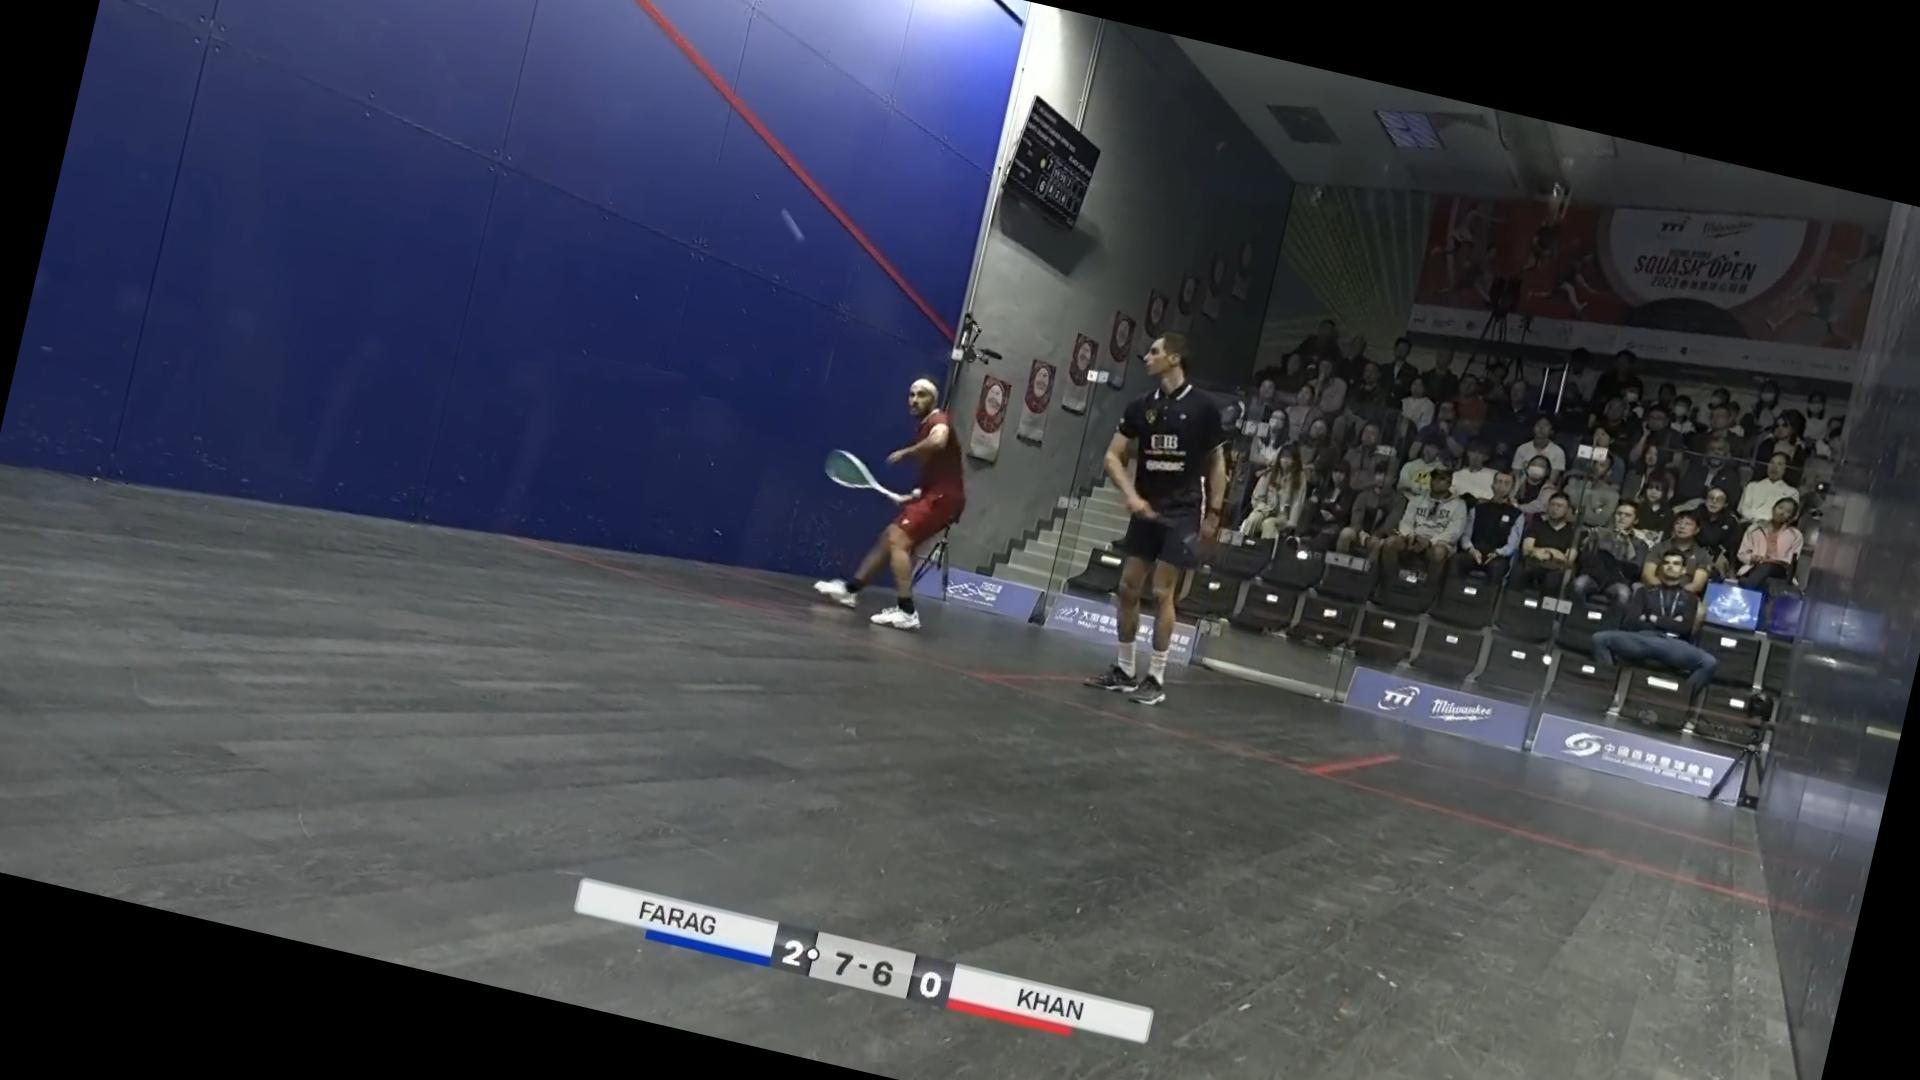Racket: (808, 435, 914, 524)
